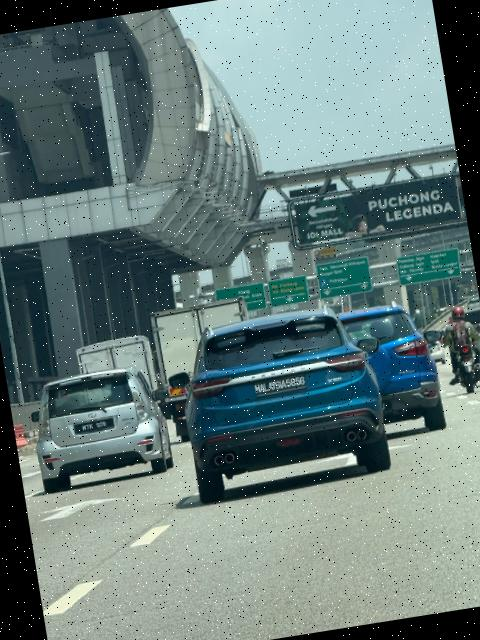License_Plate: (253, 374, 309, 398), (81, 419, 112, 436)
car: (171, 298, 398, 504), (27, 361, 178, 495)
